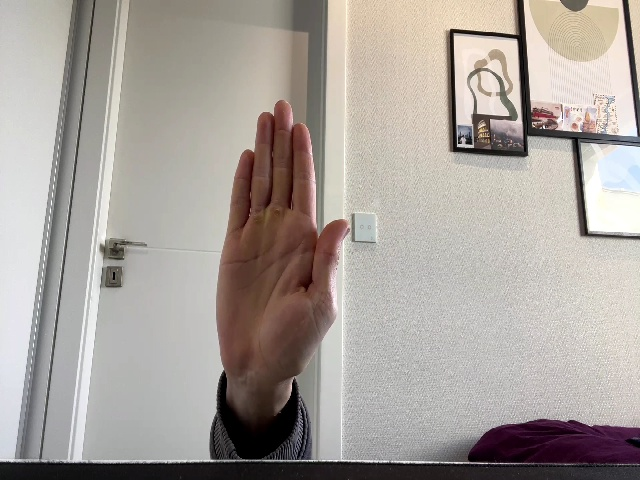B: (217, 100, 350, 392)
